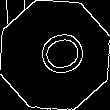O_W: (24, 26, 86, 84)
